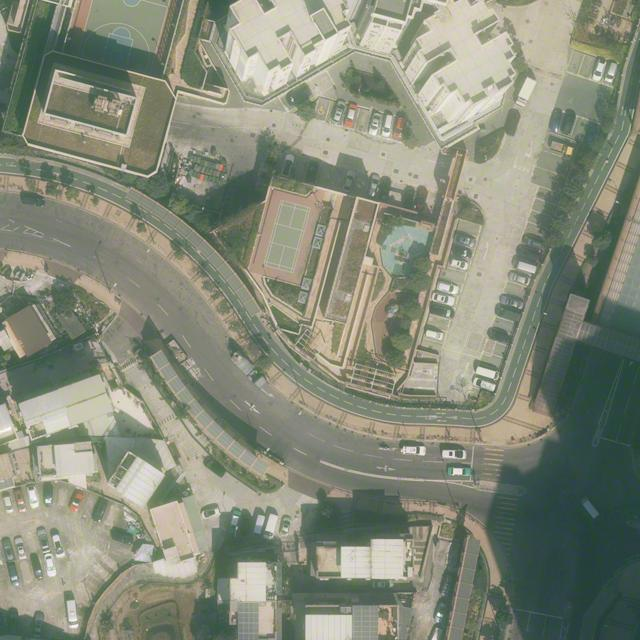panel: (353, 605, 379, 637), (237, 602, 259, 634)
